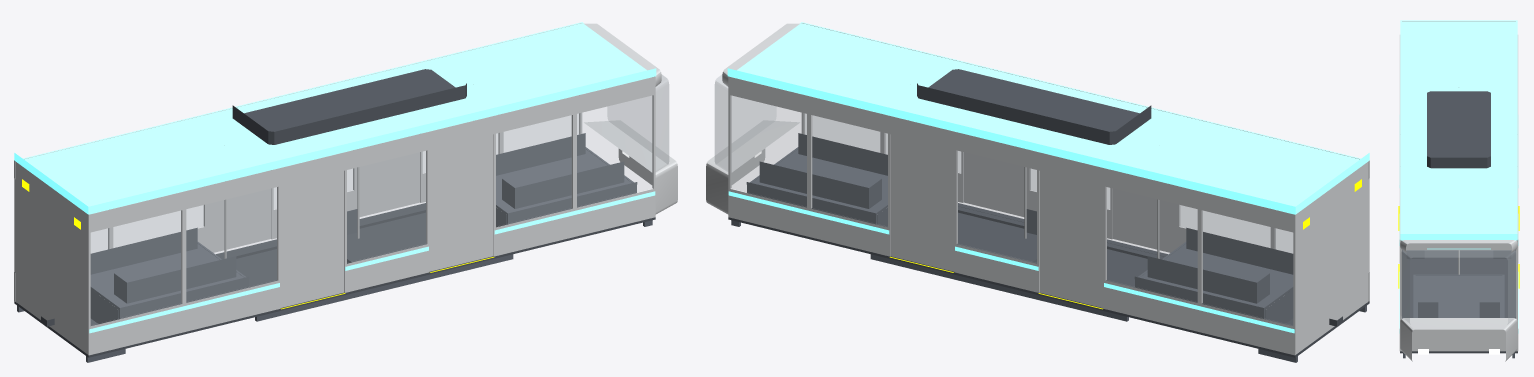
File: ext_tram_car_body_04.glb
3 renders of one model, left to right at view 1: azimuth 30°, elevation 25°; view 2: azimuth 150°, elevation 25°; view 3: azimuth 270°, elevation 25°, orthographic. The views are drawn at different scales.
Visible parts, largest first — view 1: Side_Glass, Roof, Wall, Lower_Wall, End_Wall, Seats, Wheel_Housing, Roof_Pods, Door_L_01, Door_L_02, Underframe, Cab_Nose (+5 smaller); view 2: Side_Glass, Roof, Wall, Lower_Wall, End_Wall, Seats, Wheel_Housing, Roof_Pods, Door_R_01, Door_R_02, Underframe, Cab_Nose (+5 smaller); view 3: Roof, Cab_Glass, Cab_Nose, Roof_Pods, Underframe, Wheel_Housing, Seats, Wall, Livery_Stripe, Door_Sills, Headlights, Destination_Screen (+2 smaller).
Boxes of the visible parts, x1,y1,x2,y2 form: Side_Glass: (91, 96, 652, 325); Roof: (14, 22, 656, 214); Wall: (14, 23, 655, 326); Lower_Wall: (14, 173, 655, 355); End_Wall: (15, 162, 87, 353); Seats: (90, 133, 624, 303); Wheel_Housing: (90, 147, 637, 323); Roof_Pods: (232, 69, 466, 144); Door_L_01: (280, 171, 344, 307); Door_L_02: (429, 134, 493, 271); Underframe: (14, 203, 655, 357); Cab_Nose: (584, 23, 677, 214); Side_Glass: (731, 96, 1292, 325); Roof: (727, 22, 1369, 214); Wall: (728, 23, 1369, 326); Lower_Wall: (728, 173, 1369, 355); End_Wall: (1296, 162, 1368, 353); Seats: (759, 133, 1293, 303); Wheel_Housing: (746, 147, 1293, 323); Roof_Pods: (917, 69, 1151, 144); Door_R_01: (1039, 171, 1103, 307); Door_R_02: (890, 134, 954, 271); Underframe: (728, 203, 1369, 357); Cab_Nose: (706, 23, 799, 214); Roof: (1400, 20, 1517, 240); Cab_Glass: (1401, 250, 1516, 323); Cab_Nose: (1400, 240, 1517, 361); Roof_Pods: (1427, 91, 1490, 168); Underframe: (1400, 250, 1517, 353); Wheel_Housing: (1413, 274, 1504, 317); Seats: (1406, 250, 1511, 317); Wall: (1399, 35, 1518, 328); Livery_Stripe: (1399, 115, 1518, 333); Door_Sills: (1398, 206, 1519, 288); Headlights: (1418, 349, 1499, 354); Destination_Screen: (1427, 248, 1490, 249).
Size of the model in its own units: 12.16 by 3.28 by 2.66.
